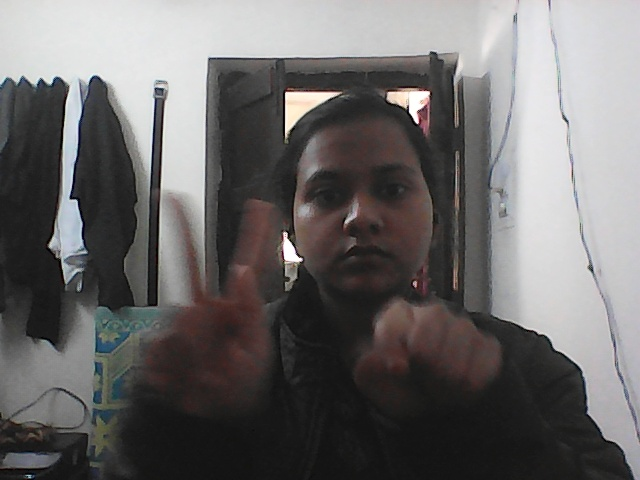OK: (69, 163, 528, 453)
